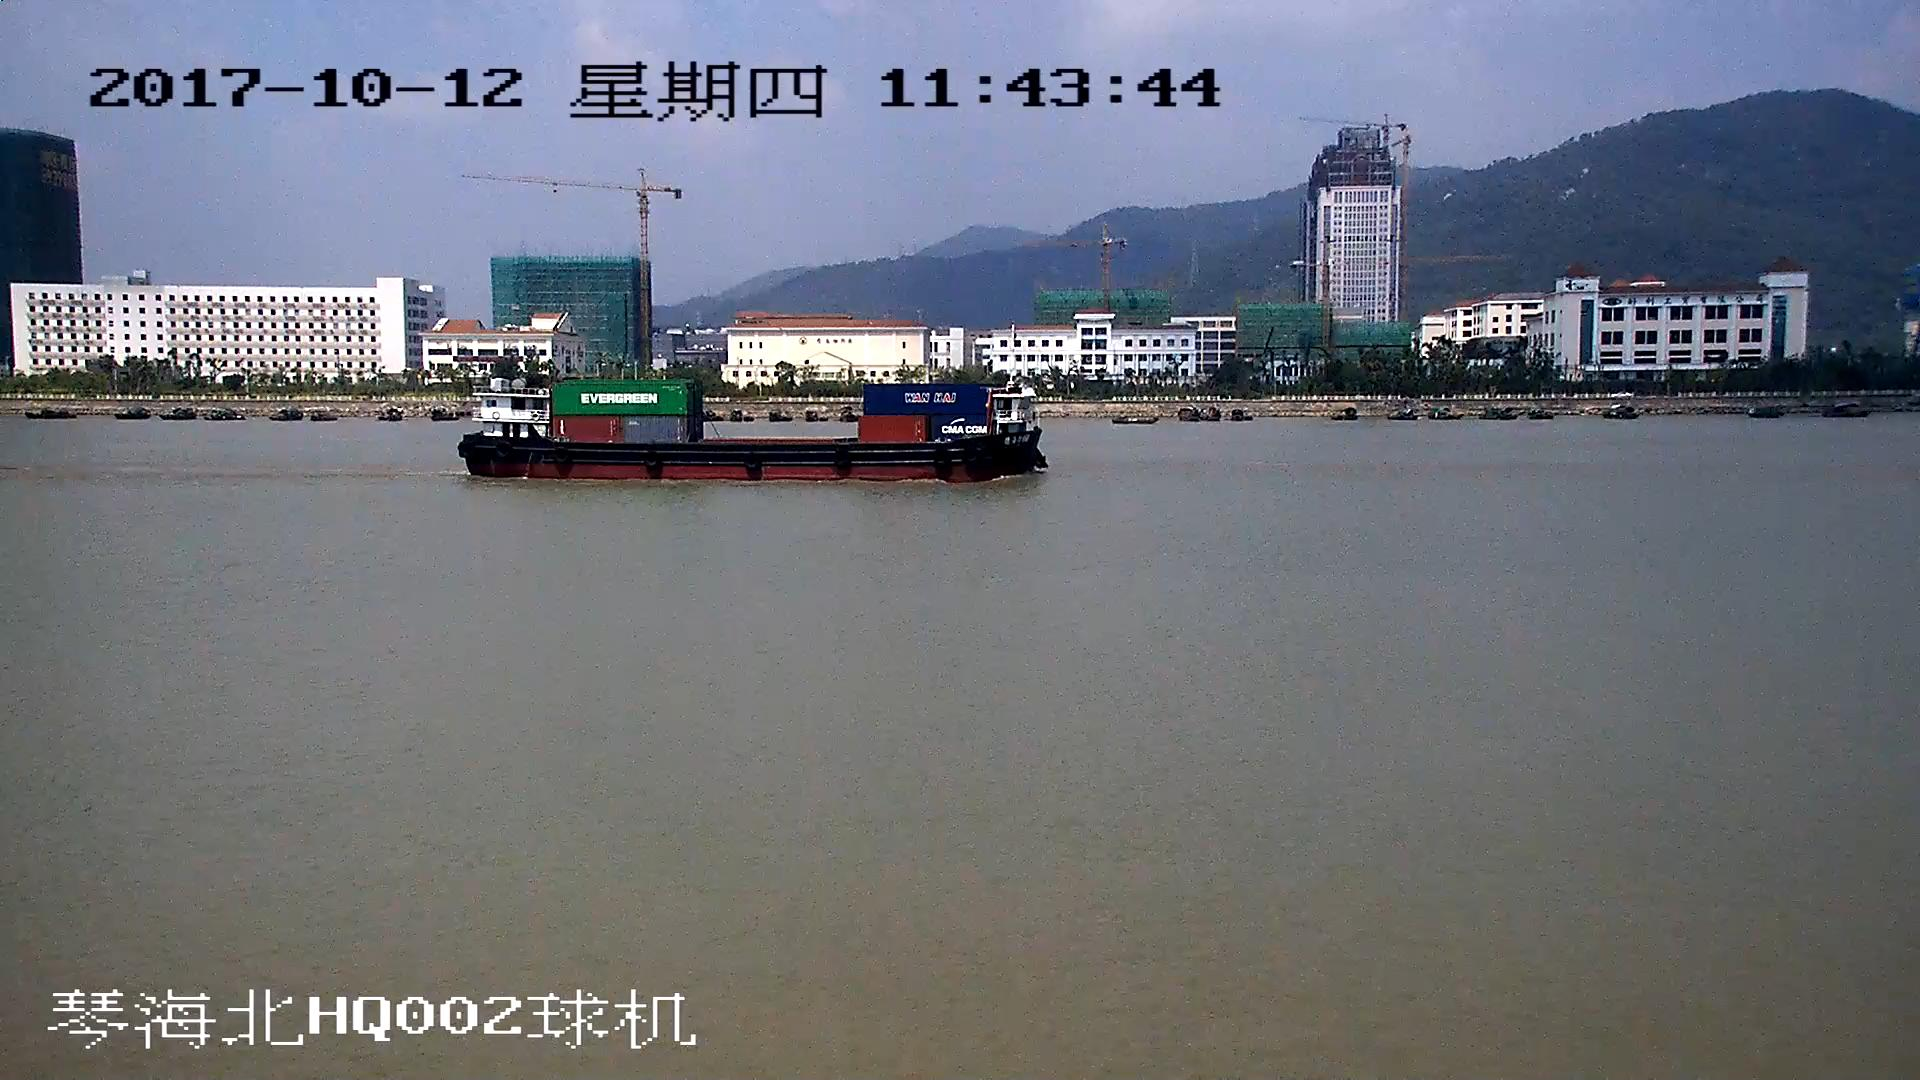container ship: (462, 375, 1046, 481)
